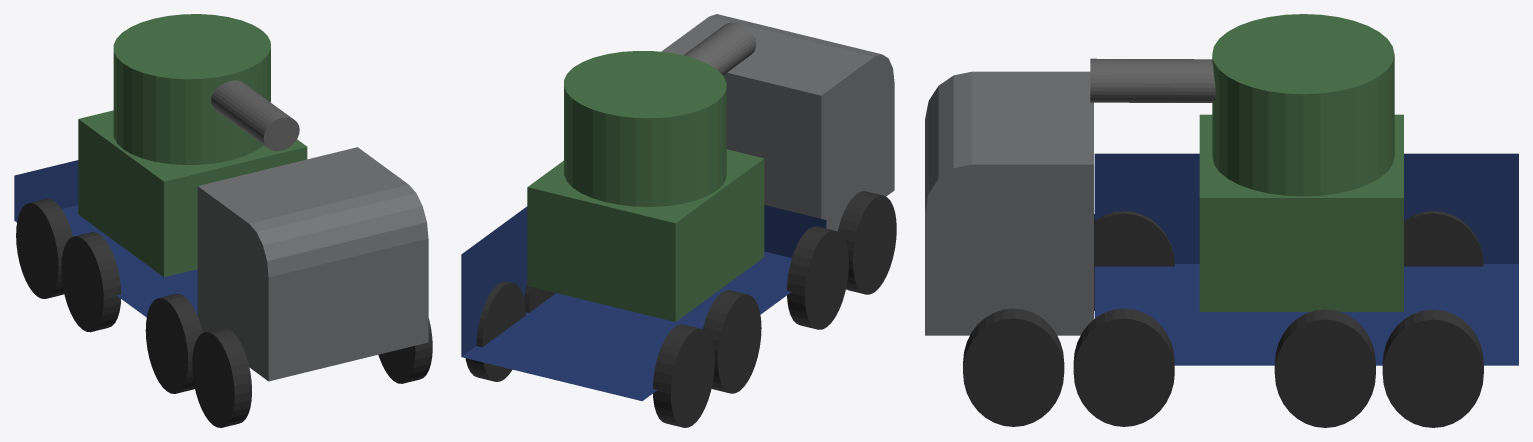
3 renders of one model, left to right at view 1: azimuth 30°, elevation 25°; view 2: azimuth 150°, elevation 25°; view 3: azimuth 270°, elevation 25°, orthographic. The views are drawn at different scales.
Parts seen in each view (by area): view 1: 立方体, 円柱.009, 円柱.007, 平面, 円柱; view 2: 円柱.009, 立方体, 平面, 円柱.007, 円柱; view 3: 円柱.009, 円柱.007, 立方体, 平面, 円柱.
Boxes of the visible parts, <box> form: 立方体: <box>197,147,428,381</box>; 円柱.009: <box>78,14,307,277</box>; 円柱.007: <box>16,199,432,427</box>; 平面: <box>14,160,197,317</box>; 円柱: <box>211,80,299,151</box>; 円柱.009: <box>527,51,764,321</box>; 立方体: <box>661,14,894,231</box>; 平面: <box>461,205,826,401</box>; 円柱.007: <box>465,191,896,427</box>; 円柱: <box>684,22,756,75</box>; 円柱.009: <box>1199,14,1403,311</box>; 円柱.007: <box>963,211,1483,427</box>; 立方体: <box>925,71,1093,335</box>; 平面: <box>1094,153,1518,365</box>; 円柱: <box>1090,58,1215,102</box>.
Size of the model in its own units: 228 by 289 by 493.
